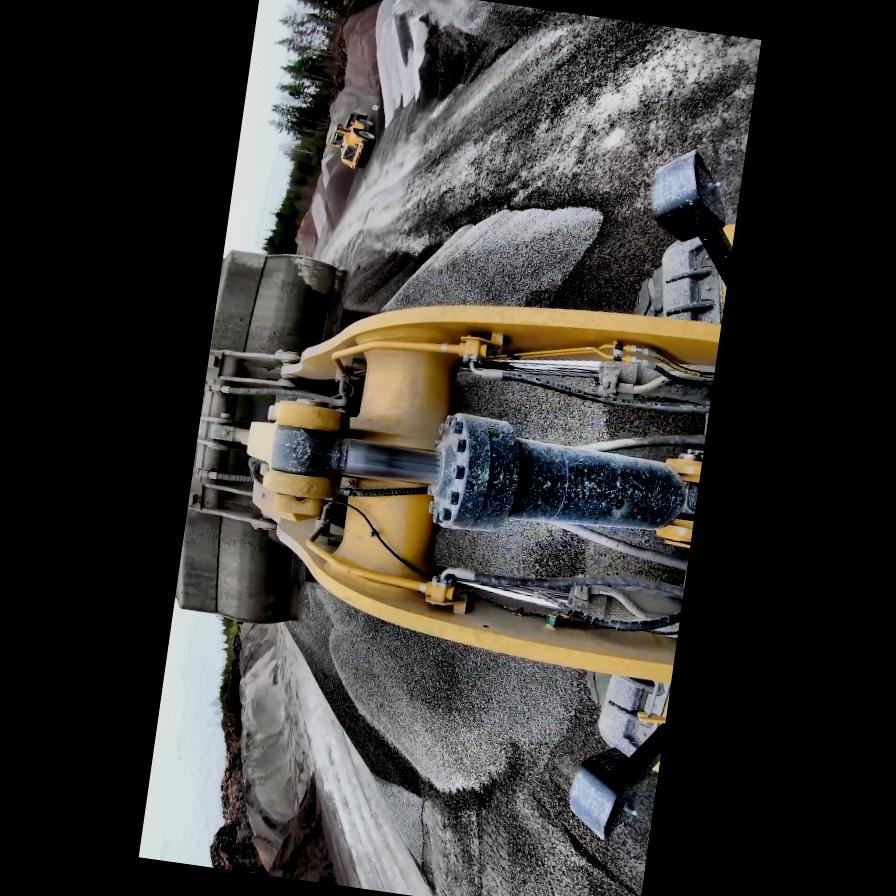anchor: (238, 398, 350, 526)
pile of gravel: (308, 0, 549, 284), (358, 0, 552, 149), (290, 0, 400, 261), (208, 620, 326, 861), (264, 766, 360, 886), (328, 0, 390, 100), (290, 195, 323, 256)
